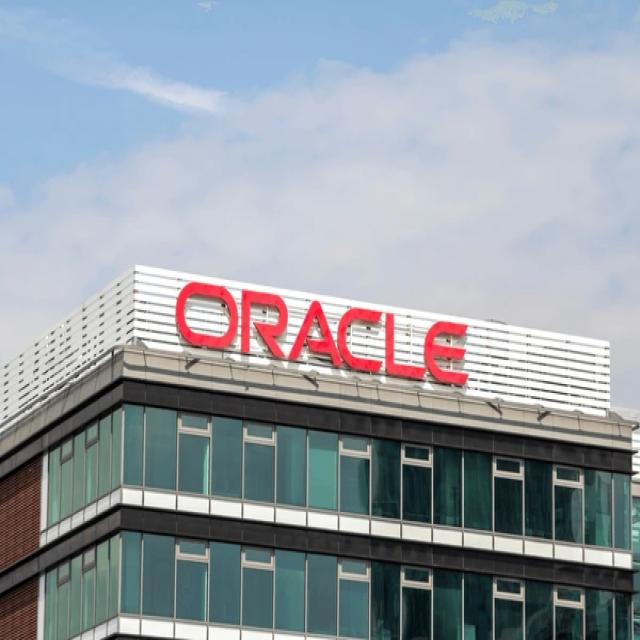oracle: (176, 277, 470, 394)
